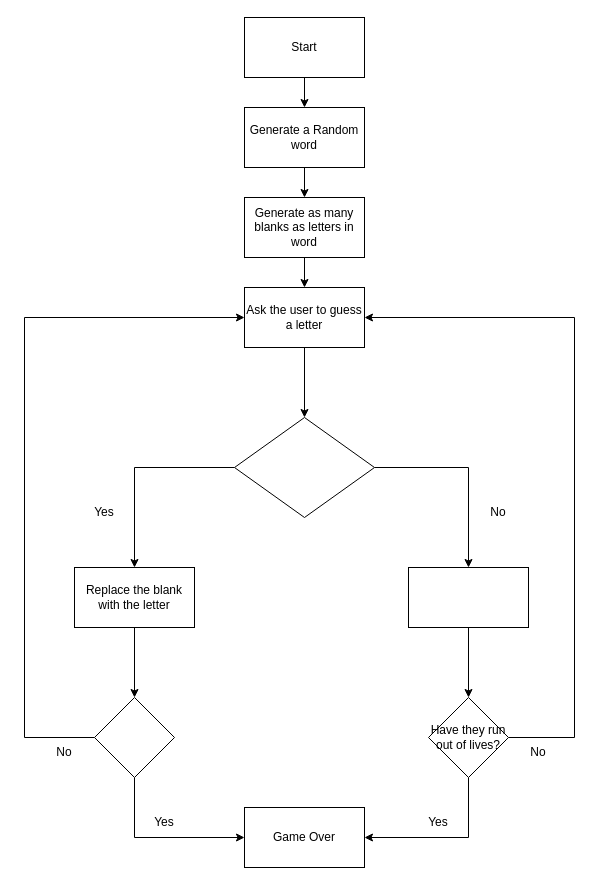
This 600x885 diagram has some shape labels left out. The shapes that lost their labels are listed below. From the top down, each one's box as (x1, y1, x2, y2) in pixels, then its label:
(234, 416, 374, 518): Is the guessed letter in word?
(408, 566, 528, 628): Lose a life
(94, 696, 174, 778): Are the blanks filed?
